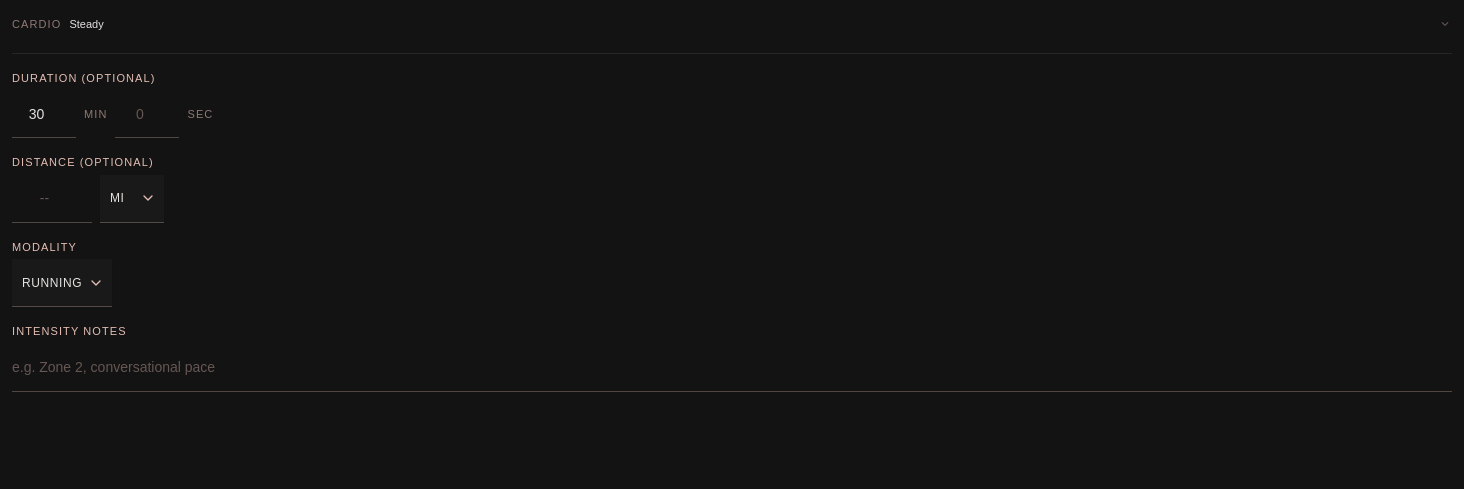
SetSchemeEditor › sessionCategory filtering › restricts visible scheme types to CONDITIONING category types
The width and height of the screenshot is (1464, 489).
# Type selector is collapsed for non-fixedSets -- open it
Click the text "Steady": x=87, y=24 [69,16,104,32]
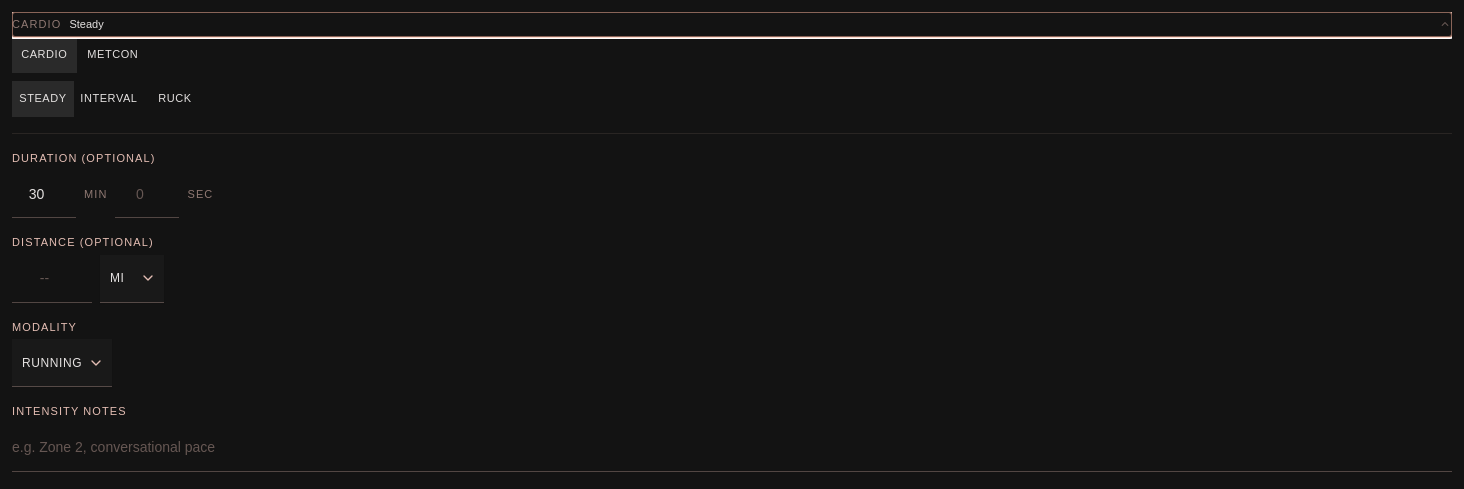
Result: the radio button "Interval" is shown at [78,80,140,116]
Result: the radio button "Ruck" is shown at [144,80,206,116]
# Switch to METCON group
Click the radio button "METCON": x=113, y=54 [80,36,145,72]
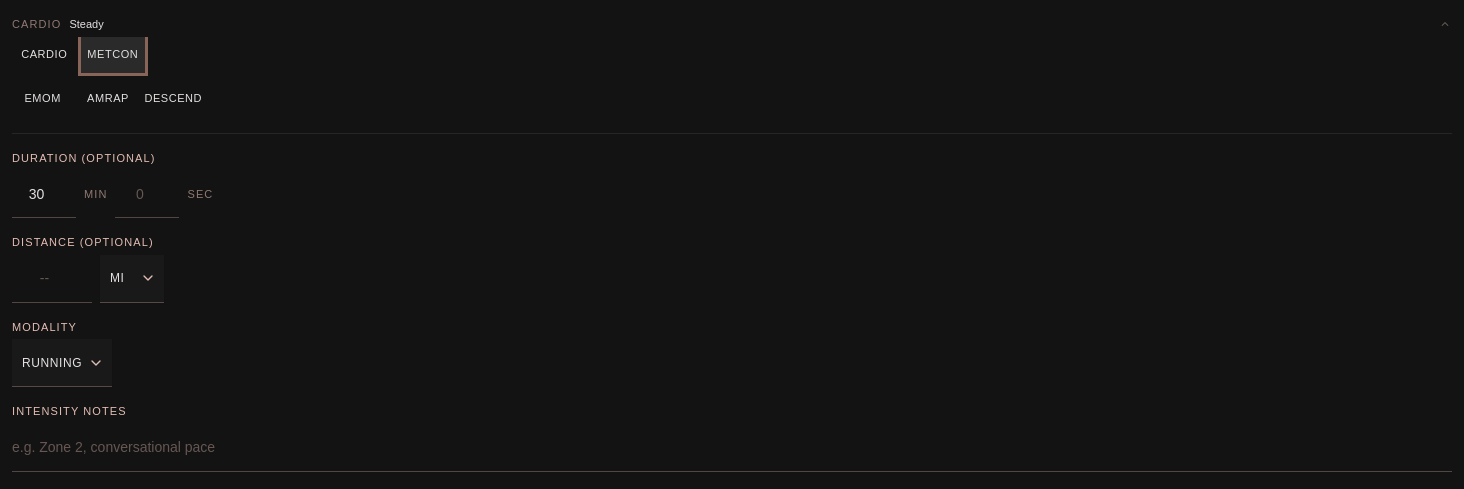
Result: the radio button "EMOM" is shown at [12,80,73,116]
Result: the radio button "AMRAP" is shown at [77,80,139,116]
Result: the radio button "Descend" is shown at [143,80,204,116]
